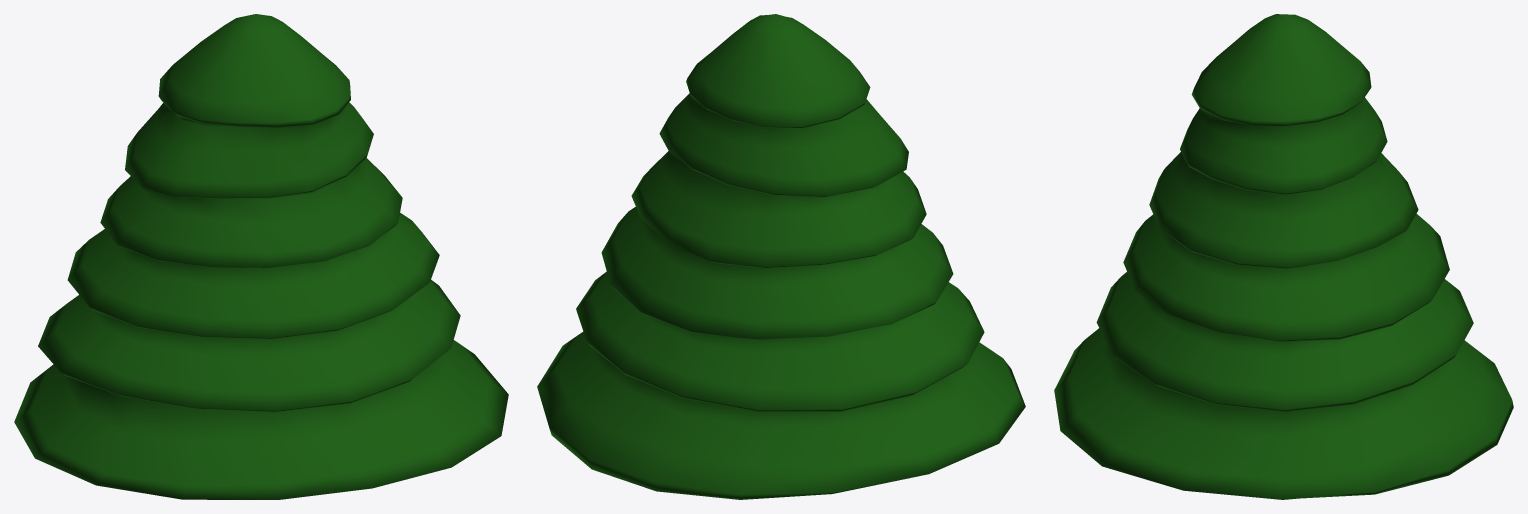
Rendered from tree2.obj.
The picture shows the model from 3 angles, left to right: view 1: azimuth 30°, elevation 25°; view 2: azimuth 150°, elevation 25°; view 3: azimuth 270°, elevation 25°; orthographic projection. The views are drawn at different scales.
Parts seen in each view (by area): view 1: Cylinder_Cylinder.001; view 2: Cylinder_Cylinder.001; view 3: Cylinder_Cylinder.001.
Boxes of the visible parts, x1=… form: Cylinder_Cylinder.001: x1=14, y1=14, x2=508, y2=499; Cylinder_Cylinder.001: x1=537, y1=14, x2=1025, y2=499; Cylinder_Cylinder.001: x1=1054, y1=14, x2=1513, y2=499.
Bounding box in the file's own units: 9.38 × 9.63 × 8.66.
2 materials, 2 textured.
